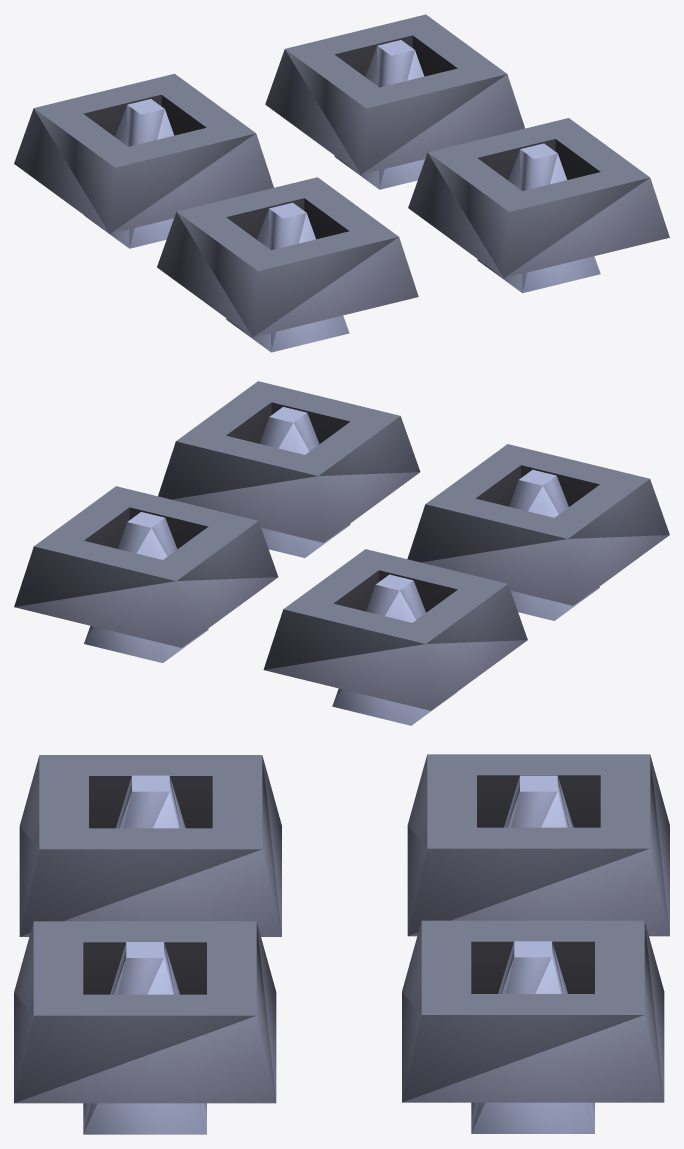
The model's file is dk2_trap.glb.
3 renders of one model, top to bottom at view 1: azimuth 30°, elevation 25°; view 2: azimuth 150°, elevation 25°; view 3: azimuth 270°, elevation 25°, orthographic. The views are drawn at different scales.
Visible parts, largest first — view 1: trap, spikes; view 2: trap, spikes; view 3: trap, spikes.
Part boxes in pixels (box(x1,y1,x2,y2)): trap: box(14, 14, 669, 337); spikes: box(84, 40, 600, 352); trap: box(14, 381, 669, 710); spikes: box(84, 407, 599, 725); trap: box(14, 754, 669, 1103); spikes: box(83, 775, 594, 1134).
Size of the model in its own units: 0.6392 by 0.17 by 0.6375.
Materials: 1 (1 with a texture image).
